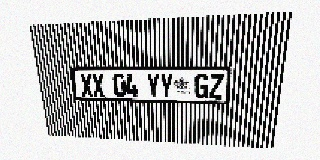0: (112, 74, 126, 97)
4: (125, 74, 138, 97)
G: (194, 74, 209, 99)
X: (91, 74, 105, 97), (80, 74, 93, 96)
Y: (146, 74, 160, 98), (160, 74, 173, 98)
Z: (209, 74, 224, 99)
